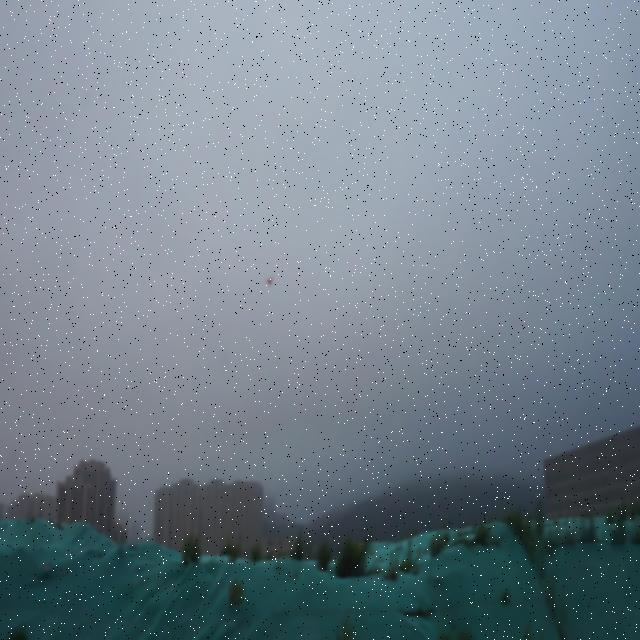UAV: (265, 278, 275, 285)
